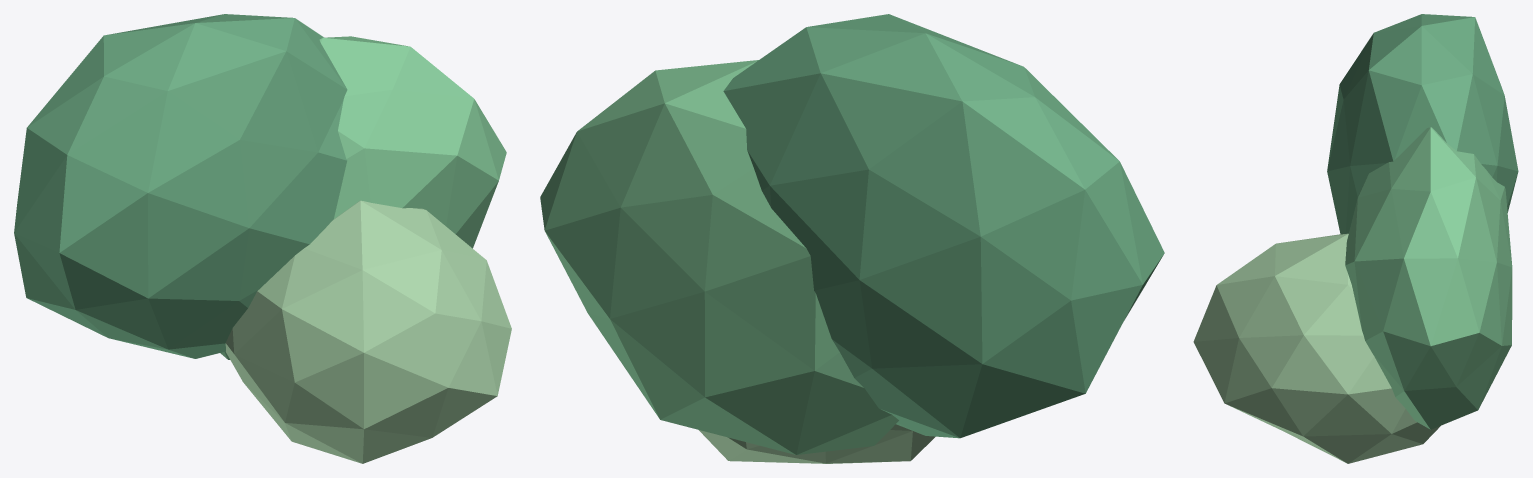
The model's file is bush_low.glb.
The picture shows the model from 3 angles, left to right: view 1: azimuth 30°, elevation 25°; view 2: azimuth 150°, elevation 25°; view 3: azimuth 270°, elevation 25°; orthographic projection. The views are drawn at different scales.
Visible parts, largest first — view 1: bush_low_leaf_dark, bush_low_leaf_light, bush_low_leaf_mid; view 2: bush_low_leaf_dark, bush_low_leaf_mid, bush_low_leaf_light; view 3: bush_low_leaf_mid, bush_low_leaf_light, bush_low_leaf_dark.
Part boxes in pixels (x1,y1,x2,y2): bush_low_leaf_dark: [14, 14, 347, 358]; bush_low_leaf_light: [225, 200, 511, 463]; bush_low_leaf_mid: [220, 36, 506, 359]; bush_low_leaf_dark: [723, 14, 1164, 438]; bush_low_leaf_mid: [540, 60, 898, 454]; bush_low_leaf_light: [699, 424, 935, 463]; bush_low_leaf_mid: [1345, 127, 1512, 429]; bush_low_leaf_light: [1193, 233, 1440, 463]; bush_low_leaf_dark: [1327, 14, 1518, 234].
Size of the model in its own units: 1.15 by 0.9305 by 0.7426.
